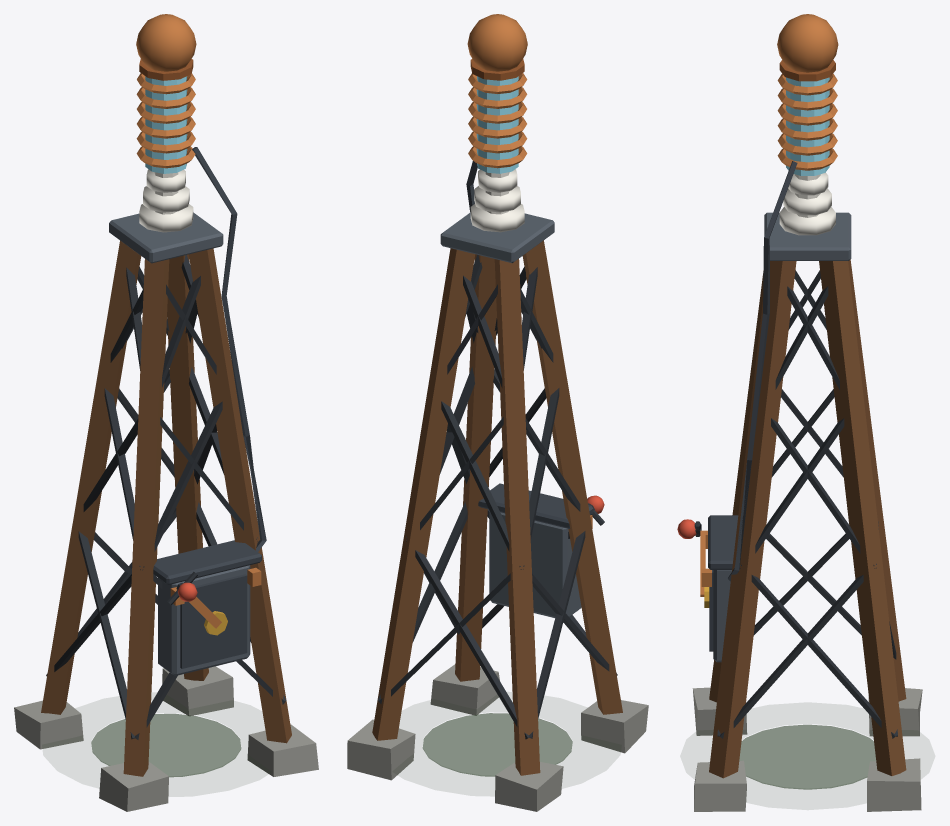
Rendered from pylon.glb.
3 views of the same model, side by side, from view 1: azimuth 30°, elevation 25°; view 2: azimuth 150°, elevation 25°; view 3: azimuth 270°, elevation 25° (orthographic).
Visible parts, largest first — view 1: pylon, pylon_lever; view 2: pylon; view 3: pylon, pylon_lever.
Boxes of the visible parts, x1,y1,x2,y2 form: pylon: [14, 14, 318, 811]; pylon_lever: [167, 571, 221, 628]; pylon: [347, 14, 648, 811]; pylon: [692, 14, 922, 811]; pylon_lever: [677, 519, 705, 596].
Size of the model in its own units: 1 by 3.23 by 1.01.
